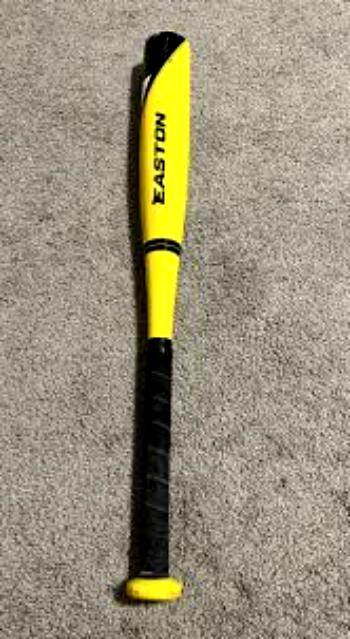baseball bat: (123, 30, 190, 602)
